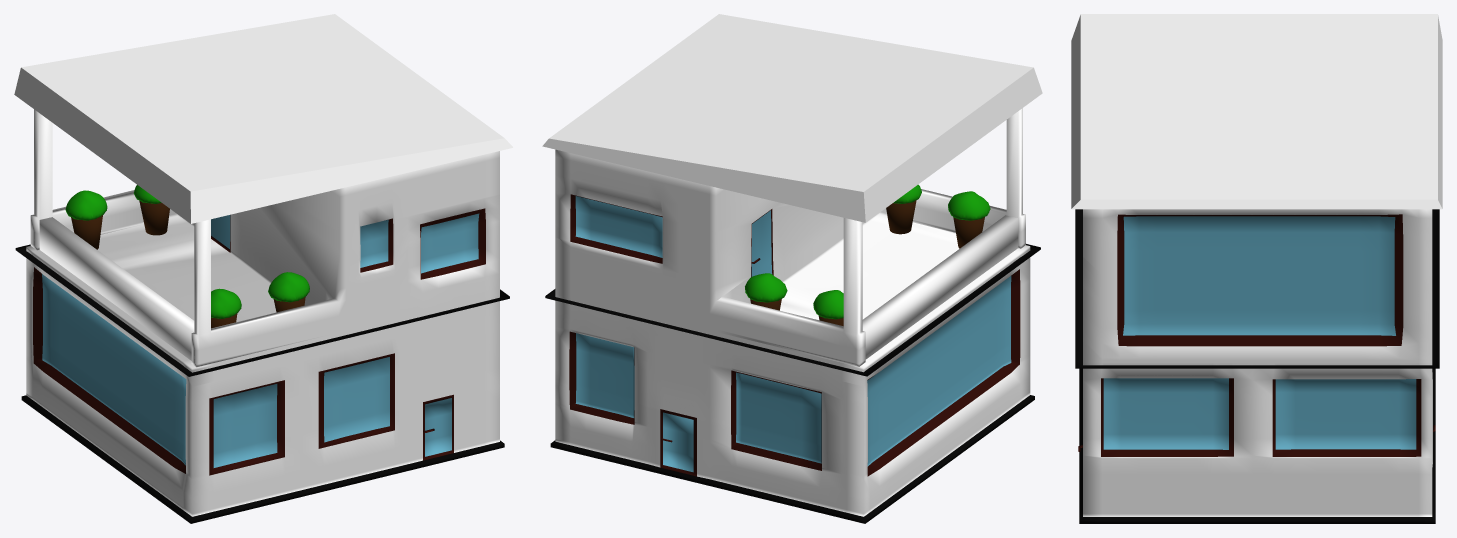
Rendered from House4.fbx.
3 views of the same model, side by side, from view 1: azimuth 30°, elevation 25°; view 2: azimuth 150°, elevation 25°; view 3: azimuth 270°, elevation 25° (orthographic). The views are drawn at different scales.
Visible parts, largest first — view 1: Cube; view 2: Cube; view 3: Cube.
Part boxes in pixels (x1,y1,x2,y2): Cube: (14, 14, 512, 523); Cube: (542, 14, 1042, 523); Cube: (1071, 14, 1442, 523).
Bounding box in the file's own units: 551 × 541 × 522.
